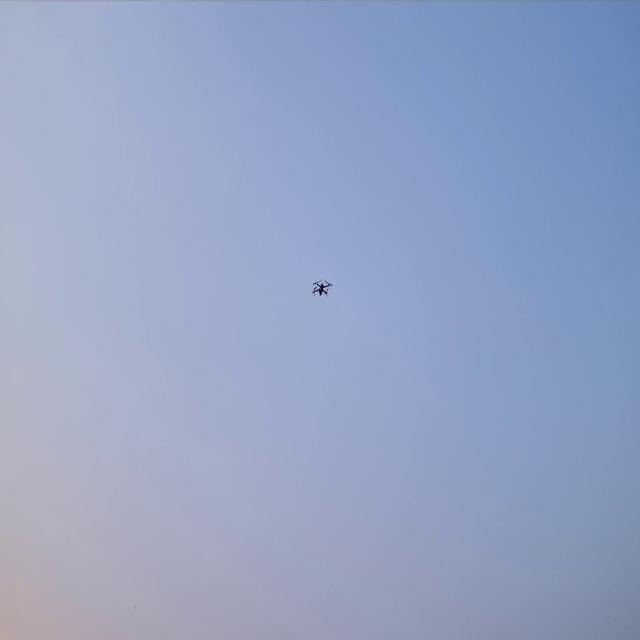UAV: (311, 278, 334, 298)
